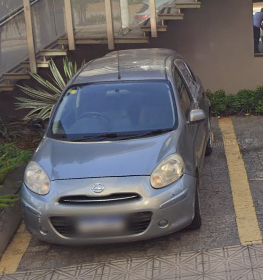car: (22, 49, 215, 244)
